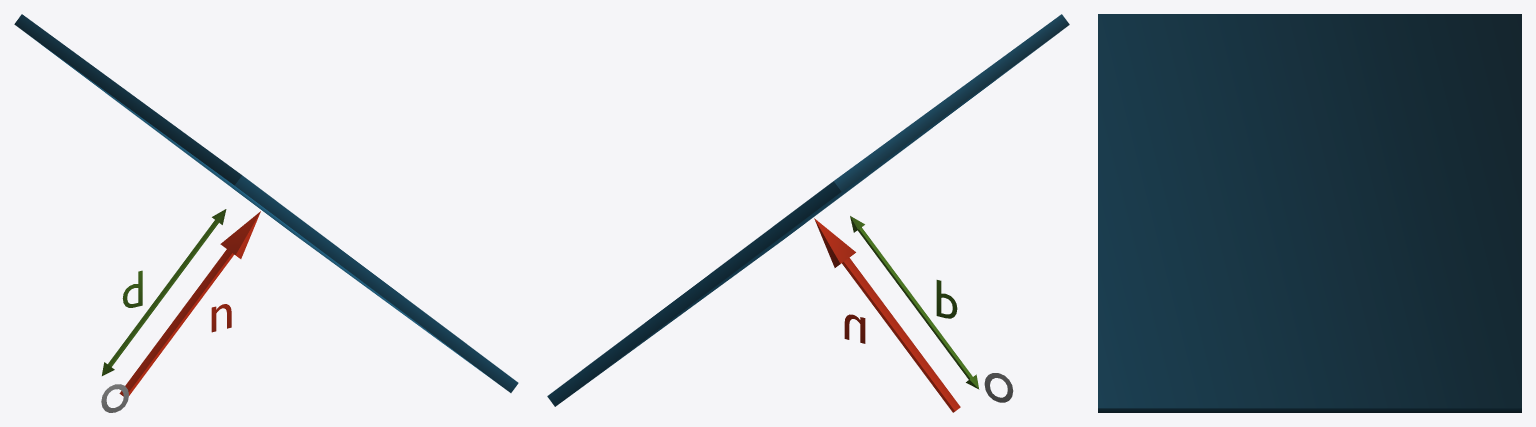
3 renders of one model, left to right at view 1: azimuth 30°, elevation 25°; view 2: azimuth 150°, elevation 25°; view 3: azimuth 270°, elevation 25°, orthographic. The views are drawn at different scales.
Visible parts, largest first — view 1: Cube.007, Cube.008, Cube.006; view 2: Cube.007, Cube.008, Cube.006; view 3: Cube.007.
Boxes of the visible parts, left/top/right/bottom form: Cube.007: left=14, top=14, right=518, bottom=392; Cube.008: left=119, top=211, right=260, bottom=396; Cube.006: left=102, top=209, right=226, bottom=375; Cube.007: left=547, top=14, right=1069, bottom=406; Cube.008: left=814, top=218, right=960, bottom=412; Cube.006: left=850, top=216, right=979, bottom=389; Cube.007: left=1098, top=14, right=1521, bottom=412.
Size of the model in its own units: 3.75 by 3.33 by 4.42.
Materials: 1 (1 with a texture image).
